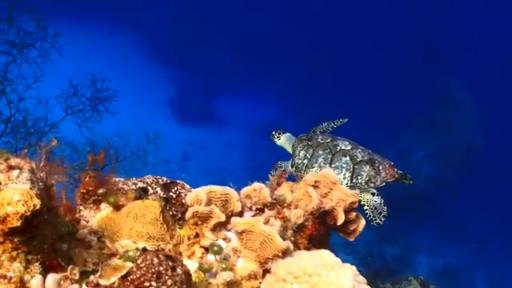Fish: (272, 120, 411, 225)
